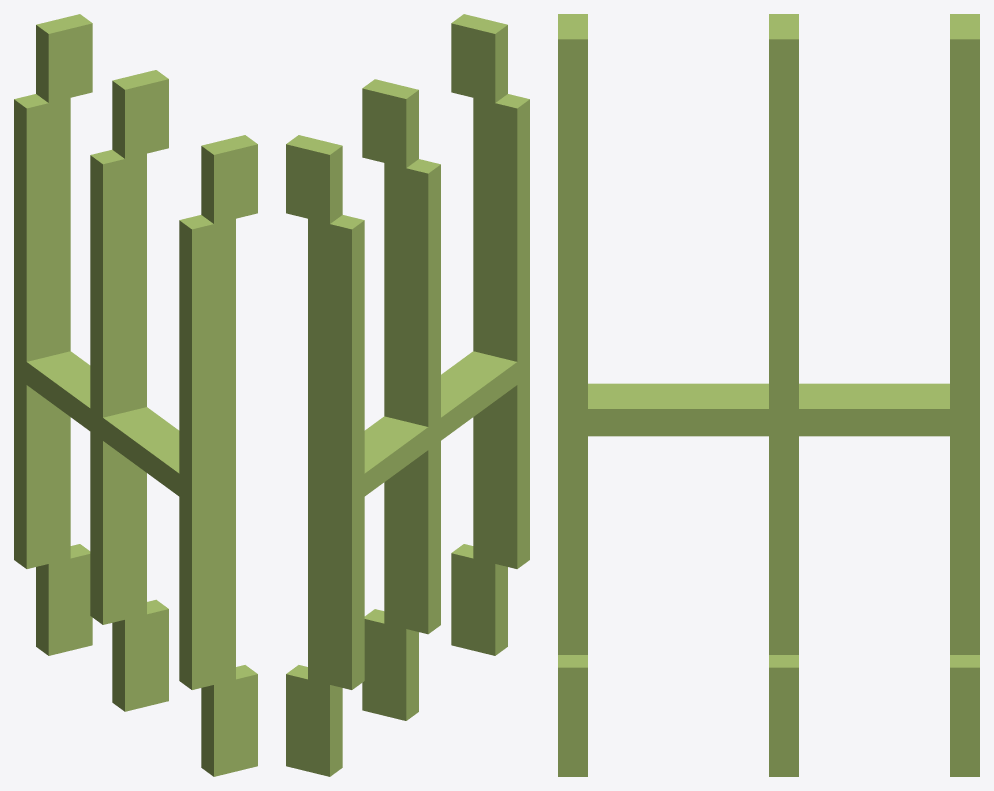
File: seam_flank_l.glb
3 renders of one model, left to right at view 1: azimuth 30°, elevation 25°; view 2: azimuth 150°, elevation 25°; view 3: azimuth 270°, elevation 25°, orthographic. The views are drawn at different scales.
Bounding box in the file's own units: 3 × 27 × 14.
